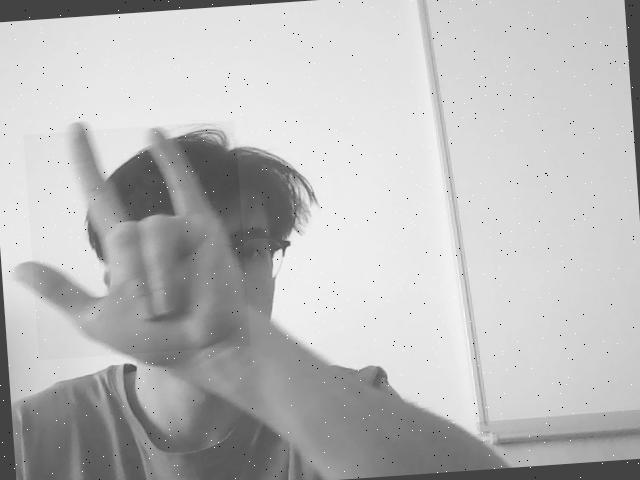I_Love_You: (23, 120, 250, 360)
